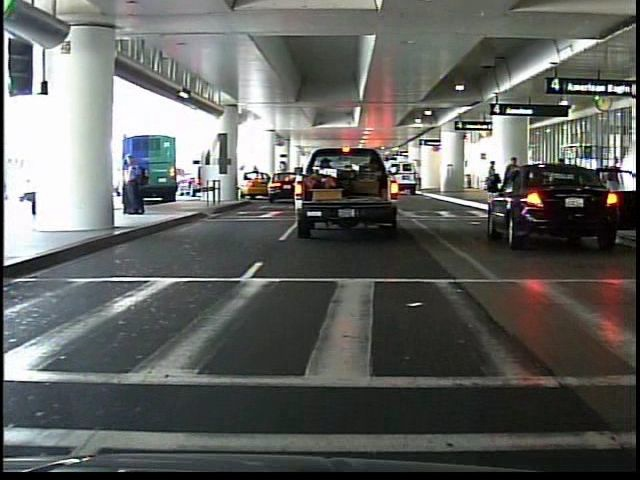person: (121, 151, 148, 218)
